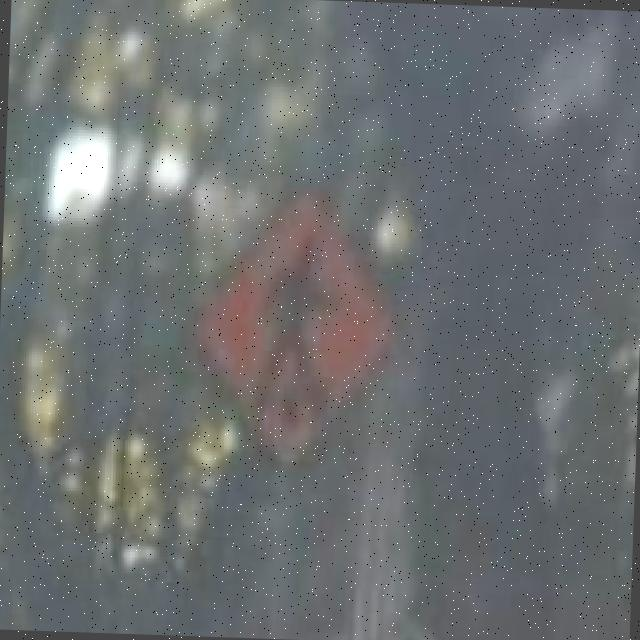Przejscie dla pieszych: (204, 200, 392, 460)
